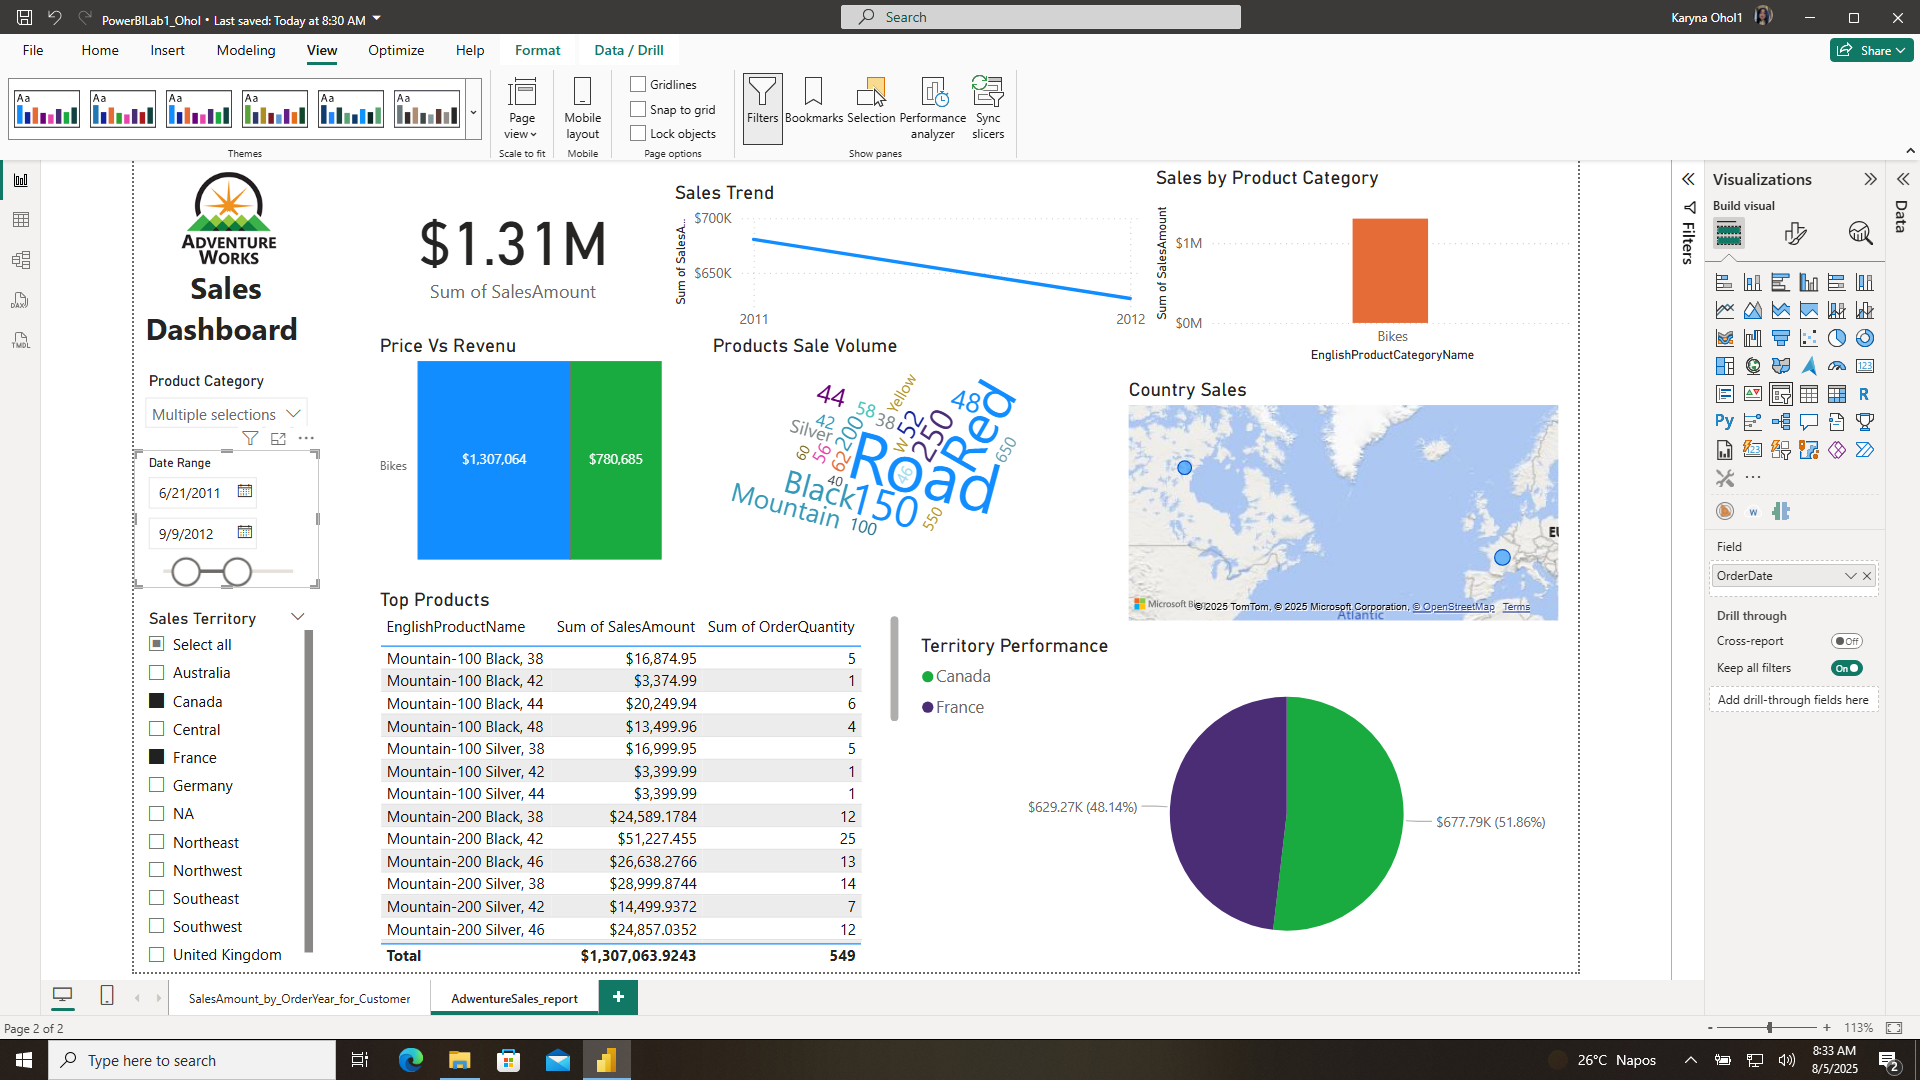

The page's visual inventory and layout, read from the dashboard file:
{"tool":"powerbi","page":{"name":"AdwentureSales_report","canvas":[1280,720],"ordinal":1},"visuals":[{"type":"textbox","box":[0,89.5,155.5,94.3],"z":0},{"type":"image","box":[3.8,0,160.2,102.7],"z":1000},{"type":"slicer","fields":{"Values":["DimProductCategory.EnglishProductCategoryName"]},"box":[0,183.8,164,66],"z":2000},{"type":"slicer","fields":{"Values":["DimSalesTerritory.SalesTerritoryRegion"]},"box":[0,394,164,326.1],"z":3000},{"type":"slicer","fields":{"Values":["FactInternetSales.OrderDate"]},"box":[0,257.3,164,122.5],"z":4000},{"type":"clusteredColumnChart","title":"Sales by Product Category","fields":{"Category":["DimProductCategory.EnglishProductCategoryName"],"Y":["Sum(FactInternetSales.SalesAmount)"]},"box":[901.1,5.7,378.9,178.1],"z":5000},{"type":"card","fields":{"Values":["Sum(FactInternetSales.SalesAmount)"]},"box":[223.4,26.4,225.3,102.7],"z":6000},{"type":"lineChart","title":"Sales Trend","fields":{"Category":["FactInternetSales.OrderDate.Variation.Date Hierarchy.Year","FactInternetSales.OrderDate.Variation.Date Hierarchy.Quarter","FactInternetSales.OrderDate.Variation.Date Hierarchy.Month","FactInternetSales.OrderDate.Variation.Date Hierarchy.Day"],"Y":["Sum(FactInternetSales.SalesAmount)"]},"box":[474.1,18.9,427,140.4],"z":7000},{"type":"pieChart","title":"Territory Performance","fields":{"Category":["DimSalesTerritory.SalesTerritoryRegion"],"Y":["Sum(FactInternetSales.SalesAmount)"]},"box":[692.8,420.4,587.2,299.7],"z":8000},{"type":"tableEx","title":"Top Products","fields":{"Values":["DimProduct.EnglishProductName","Sum(FactInternetSales.SalesAmount)","Sum(FactInternetSales.OrderQuantity)"]},"box":[213,379.9,471.3,340.3],"z":9000},{"type":"map","title":"Country Sales ","fields":{"Category":["DimSalesTerritory.SalesTerritoryCountry"],"Size":["Sum(FactInternetSales.SalesAmount)"]},"box":[876.6,193.2,391.2,219.6],"z":10000},{"type":"TornadoChart1452517688218","title":"Price Vs Revenu","fields":{"Category":["DimProductCategory.EnglishProductCategoryName"],"Values":["Sum(FactInternetSales.SalesAmount)","Sum(FactInternetSales.TotalProductCost)"]},"box":[213,154.6,329,225.3],"z":11000},{"type":"WordCloud1447959067750","title":"Products Sale Volume","fields":{"Values":["Sum(FactInternetSales.SalesAmount)"],"Category":["DimProduct.EnglishProductName"]},"box":[508,154.6,368.5,239.4],"z":12000}]}

Visuals, with their boxes on the page's 1280x720 design canvas (x1, y1, x2, y2). These are canvas units, not pixel positions in the 1920x1080 screenshot, which may show the page scaled, cropped or inside an application window:
textbox: select_region(0, 90, 156, 184)
image: select_region(4, 0, 164, 103)
slicer - DimProductCategory.EnglishProductCategoryName: select_region(0, 184, 164, 250)
slicer - DimSalesTerritory.SalesTerritoryRegion: select_region(0, 394, 164, 720)
slicer - FactInternetSales.OrderDate: select_region(0, 257, 164, 380)
"Sales by Product Category" clusteredColumnChart: select_region(901, 6, 1280, 184)
card - Sum(FactInternetSales.SalesAmount): select_region(223, 26, 449, 129)
"Sales Trend" lineChart: select_region(474, 19, 901, 159)
"Territory Performance" pieChart: select_region(693, 420, 1280, 720)
"Top Products" tableEx: select_region(213, 380, 684, 720)
"Country Sales " map: select_region(877, 193, 1268, 413)
"Price Vs Revenu" TornadoChart1452517688218: select_region(213, 155, 542, 380)
"Products Sale Volume" WordCloud1447959067750: select_region(508, 155, 876, 394)
